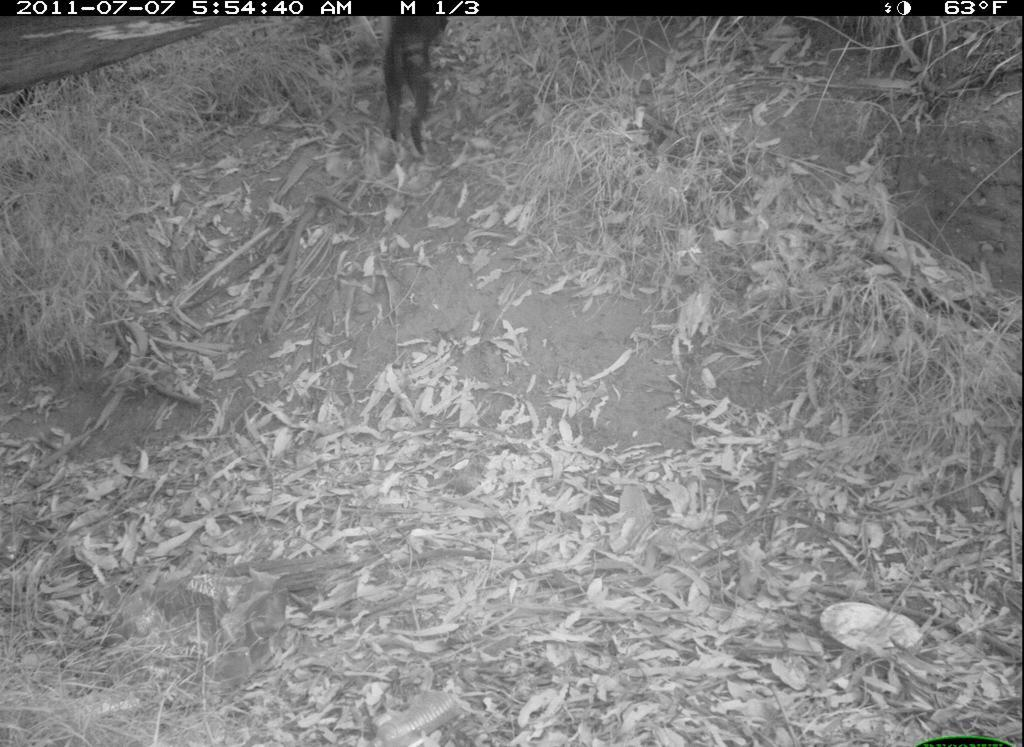dog: (372, 16, 464, 152)
